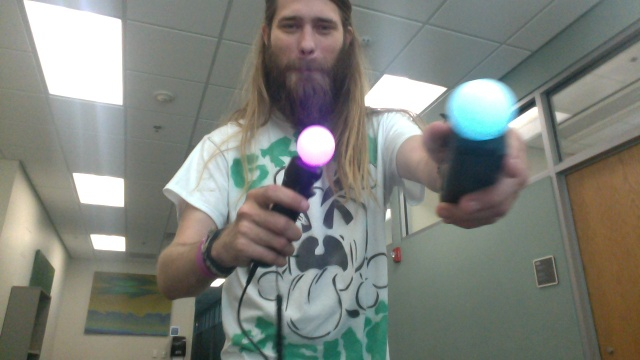wand: (448, 79, 514, 141), (300, 129, 336, 166)
